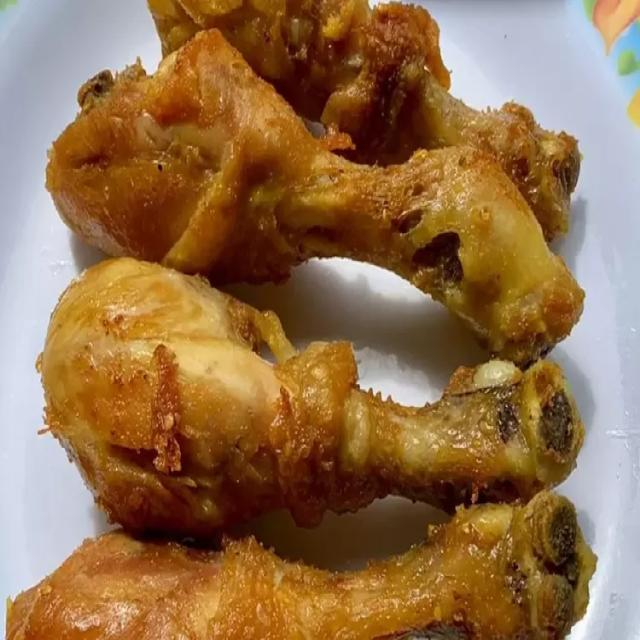ayam_goreng: (12, 1, 600, 640)
